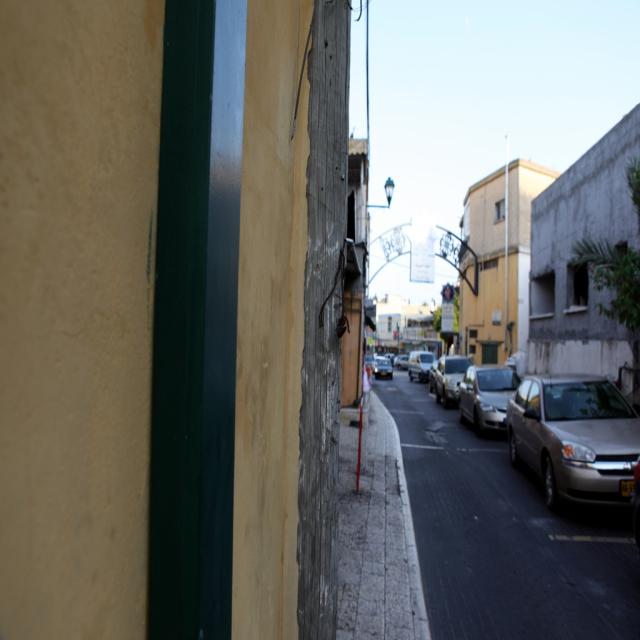car: (508, 362, 639, 521), (388, 350, 412, 369), (371, 353, 391, 375)
